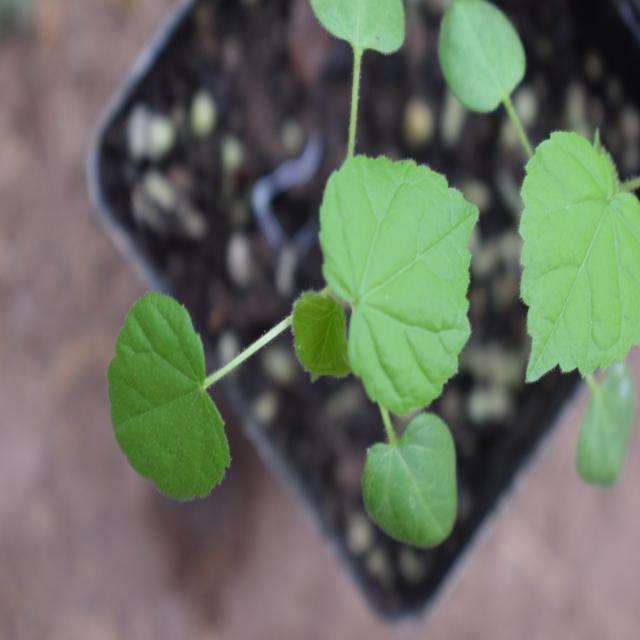abutilon theophrasti: (104, 68, 481, 546)
